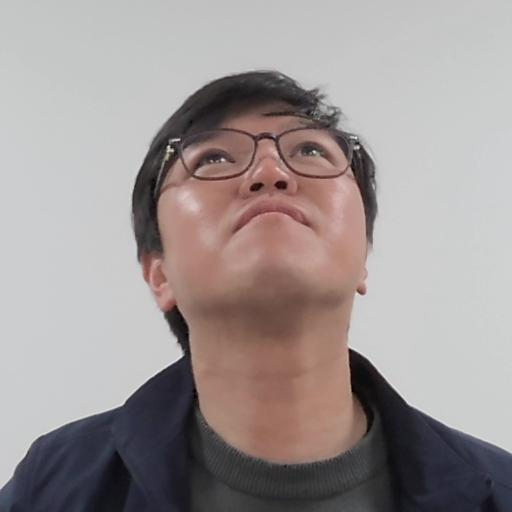no_glasses: (108, 71, 398, 376)
